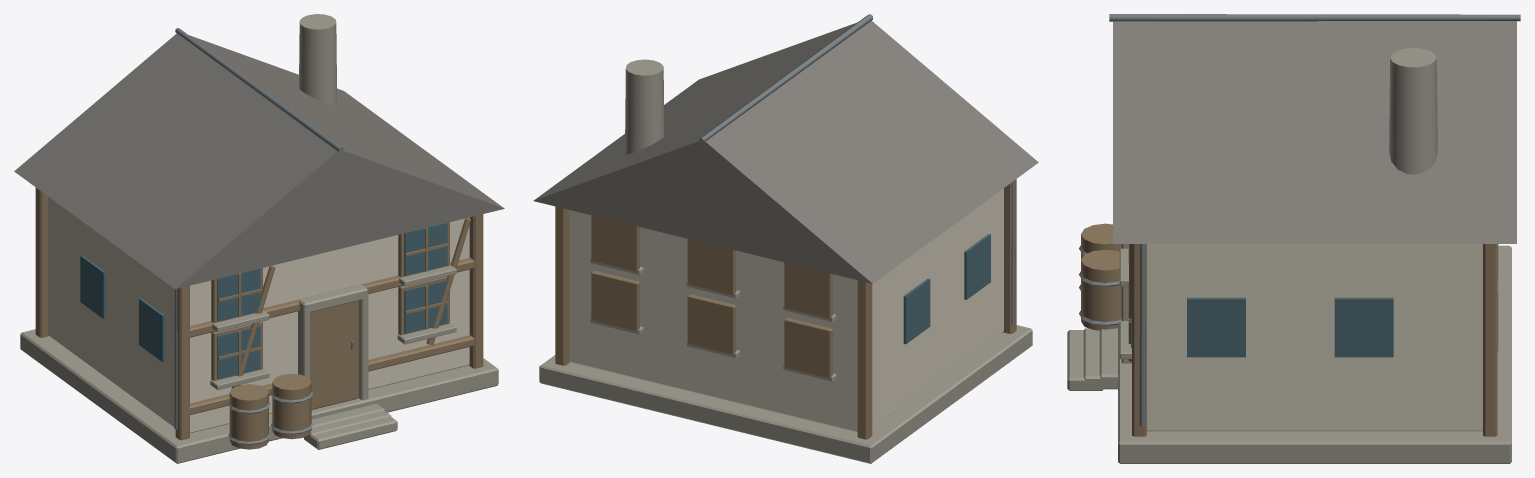
Rendered from bld_usine_a03.glb.
3 renders of one model, left to right at view 1: azimuth 30°, elevation 25°; view 2: azimuth 150°, elevation 25°; view 3: azimuth 270°, elevation 25°, orthographic. The views are drawn at different scales.
Parts seen in each view (by area): view 1: bld_usine_a03; view 2: bld_usine_a03; view 3: bld_usine_a03.
Boxes of the visible parts, box(x1,y1,x2,y2) form: bld_usine_a03: box(14, 14, 504, 463); bld_usine_a03: box(533, 14, 1038, 463); bld_usine_a03: box(1067, 14, 1520, 463).
Size of the model in its own units: 3.88 by 3.31 by 3.68.
